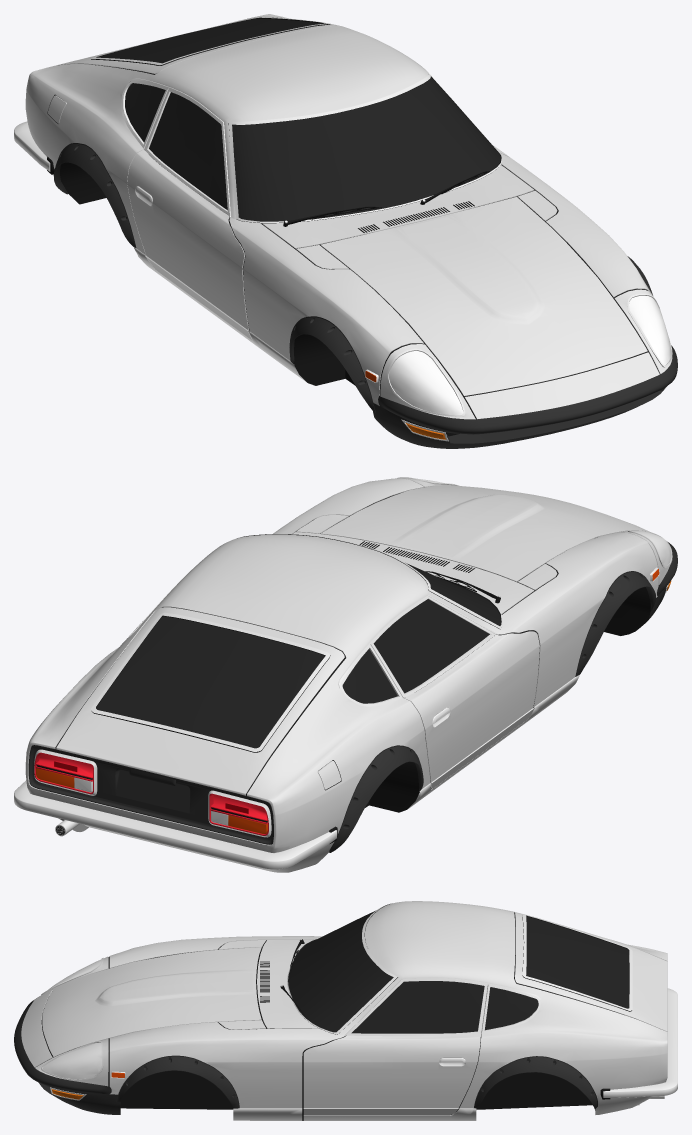
Rendered from FRLD.fbx.
The picture shows the model from 3 angles, top to bottom: view 1: azimuth 30°, elevation 25°; view 2: azimuth 150°, elevation 25°; view 3: azimuth 270°, elevation 25°; orthographic projection. The views are drawn at different scales.
Parts seen in each view (by area): view 1: Combined METALLIC Object 0, Combined O_Glass Object 0, Combined DarkGrey Object 0, Combined CHROME Object 0, Combined O_FrontLights Object 0, Combined O_DarkPlastic Object 0, Combined O_Plastic Object 0; view 2: Combined METALLIC Object 0, Combined O_Glass Object 0, Combined DarkGrey Object 0, Combined CHROME Object 0, Combined O_DarkPlastic Object 0, Combined O_Plastic Object 0, Combined O_RedLight Object 0, Combined metal Object 0, Combined OrangeGlass Object 0; view 3: Combined METALLIC Object 0, Combined O_Glass Object 0, Combined O_DarkPlastic Object 0, Combined DarkGrey Object 0, Combined CHROME Object 0, Combined O_FrontLights Object 0, Combined O_Plastic Object 0.
Boxes of the visible parts, x1,y1,x2,y2 form: Combined METALLIC Object 0: [25, 14, 672, 419]; Combined O_Glass Object 0: [98, 18, 500, 221]; Combined DarkGrey Object 0: [54, 143, 677, 448]; Combined CHROME Object 0: [14, 17, 672, 416]; Combined O_FrontLights Object 0: [389, 295, 671, 415]; Combined O_DarkPlastic Object 0: [47, 94, 474, 437]; Combined O_Plastic Object 0: [91, 17, 659, 436]; Combined METALLIC Object 0: [25, 478, 669, 872]; Combined O_Glass Object 0: [96, 563, 500, 748]; Combined DarkGrey Object 0: [28, 542, 677, 852]; Combined CHROME Object 0: [14, 477, 672, 869]; Combined O_DarkPlastic Object 0: [36, 541, 650, 843]; Combined O_Plastic Object 0: [28, 493, 658, 844]; Combined O_RedLight Object 0: [34, 752, 268, 835]; Combined metal Object 0: [34, 567, 669, 837]; Combined OrangeGlass Object 0: [36, 569, 659, 833]; Combined METALLIC Object 0: [21, 901, 667, 1120]; Combined O_Glass Object 0: [289, 910, 629, 1033]; Combined O_DarkPlastic Object 0: [120, 961, 610, 1109]; Combined DarkGrey Object 0: [14, 999, 597, 1114]; Combined CHROME Object 0: [41, 904, 677, 1105]; Combined O_FrontLights Object 0: [42, 959, 101, 1079]; Combined O_Plastic Object 0: [37, 903, 631, 1120].
Bounding box in the file's own units: 1.77 × 1.04 × 4.23.
